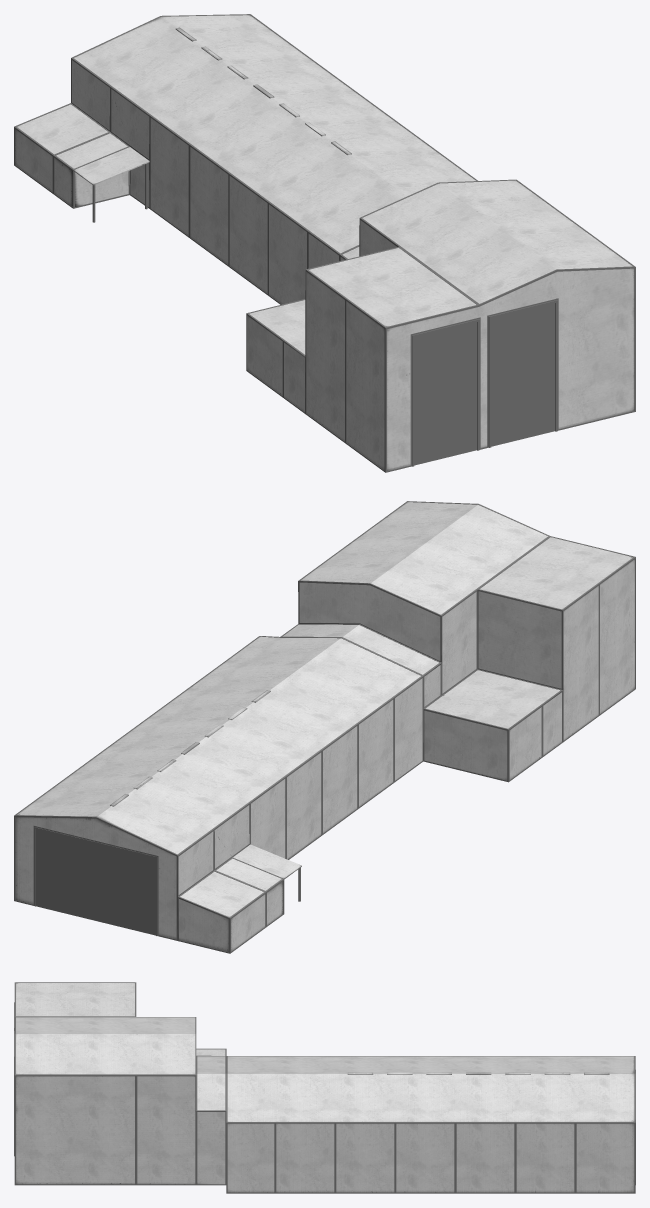
Rendered from Building_01.fbx.
3 views of the same model, one above another, from view 1: azimuth 30°, elevation 25°; view 2: azimuth 150°, elevation 25°; view 3: azimuth 270°, elevation 25° (orthographic). The views are drawn at different scales.
Parts seen in each view (by area): view 1: Building_01; view 2: Building_01; view 3: Building_01.
Boxes of the visible parts, left/top/right/bottom form: Building_01: left=14, top=14, right=635, bottom=472; Building_01: left=14, top=501, right=635, bottom=953; Building_01: left=14, top=982, right=635, bottom=1193.
Bounding box in the file's own units: 4324 × 2433 × 11195.
